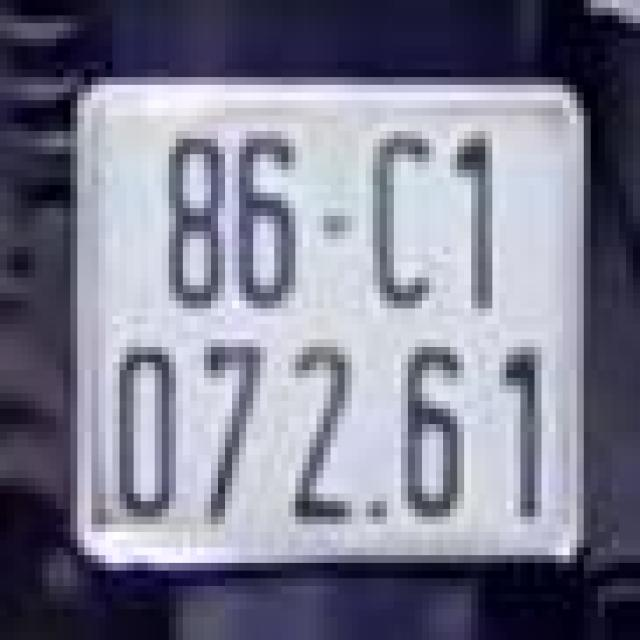0: (109, 332, 186, 524)
1: (446, 123, 503, 324), (496, 340, 552, 524)
2: (285, 332, 355, 524)
6: (387, 340, 478, 524), (229, 124, 306, 316)
7: (193, 320, 271, 536)
8: (151, 127, 229, 320)
C: (355, 120, 433, 328)
